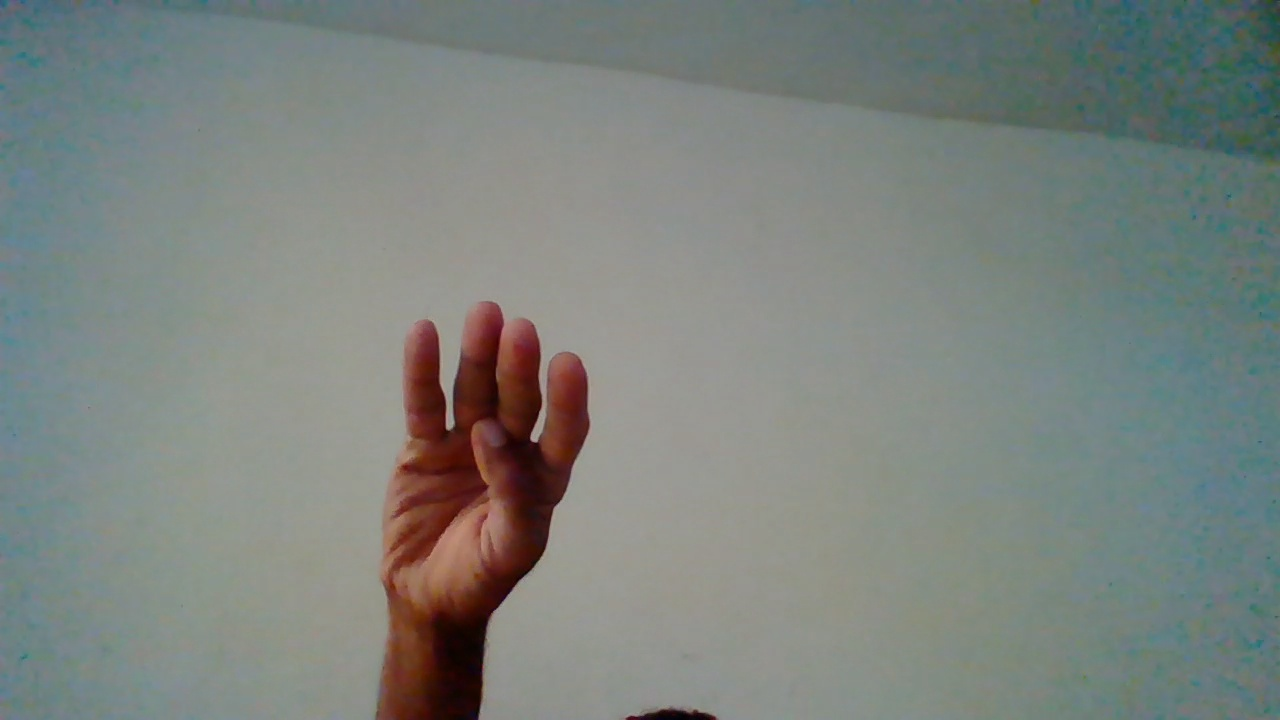me: (381, 299, 595, 706)
